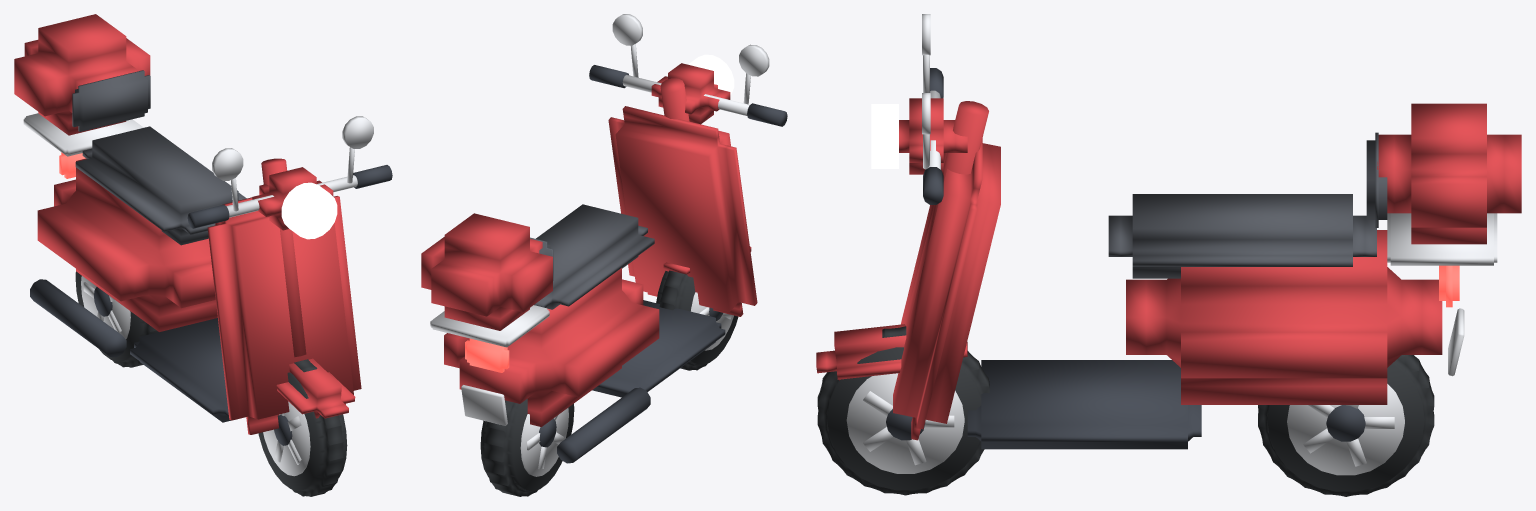
The model's file is vespa_scooter.glb.
The picture shows the model from 3 angles, left to right: view 1: azimuth 30°, elevation 25°; view 2: azimuth 150°, elevation 25°; view 3: azimuth 270°, elevation 25°; orthographic projection. The views are drawn at different scales.
Parts seen in each view (by area): view 1: front_shield, rear_cowl, seat, top_case, floorboard, wheel_fl_tire, top_case_pad, exhaust_pipe, front_fender, headlight, steer_post, top_rack (+11 smaller); view 2: front_shield, rear_cowl, top_case, seat, floorboard, wheel_rl_tire, exhaust_pipe, head_nacelle, top_rack, wheel_fl_tire, wheel_rl_rim, license_plate (+9 smaller); view 3: rear_cowl, floorboard, seat, front_shield, top_case, wheel_fl_tire, wheel_rl_tire, wheel_fl_rim, wheel_rl_rim, top_rack, front_fender, head_nacelle (+8 smaller).
Boxes of the visible parts, box(x1,y1,x2,y2) form: front_shield: box(207, 196, 361, 434); rear_cowl: box(37, 158, 217, 331); seat: box(75, 126, 246, 245); top_case: box(14, 14, 150, 135); floorboard: box(130, 318, 231, 422); wheel_fl_tire: box(258, 359, 347, 496); top_case_pad: box(72, 70, 150, 131); exhaust_pipe: box(30, 279, 126, 357); front_fender: box(276, 358, 355, 418); headlight: box(281, 182, 337, 239); steer_post: box(261, 158, 306, 357); top_rack: box(23, 113, 143, 156); front_shield: box(608, 106, 757, 316); rear_cowl: box(444, 268, 659, 426); top_case: box(421, 213, 552, 330); seat: box(534, 204, 654, 309); floorboard: box(592, 300, 725, 397); wheel_rl_tire: box(480, 399, 574, 496); exhaust_pipe: box(557, 387, 650, 463); head_nacelle: box(651, 63, 730, 124); top_rack: box(430, 305, 549, 347); wheel_fl_tire: box(656, 270, 738, 370); wheel_rl_rim: box(520, 408, 568, 476); license_plate: box(461, 385, 507, 425); rear_cowl: box(1126, 230, 1442, 404); floorboard: box(967, 360, 1201, 449); seat: box(1108, 194, 1376, 278); front_shield: box(893, 138, 1000, 440); top_case: box(1377, 103, 1521, 244); wheel_fl_tire: box(817, 326, 989, 495); wheel_rl_tire: box(1258, 355, 1434, 496); wheel_fl_rim: box(846, 373, 964, 473); wheel_rl_rim: box(1287, 384, 1404, 475); top_rack: box(1387, 213, 1497, 265); front_fender: box(816, 324, 967, 380); head_nacelle: box(899, 98, 967, 174).
Size of the model in its own units: 0.82 by 1.4 by 2.05.
